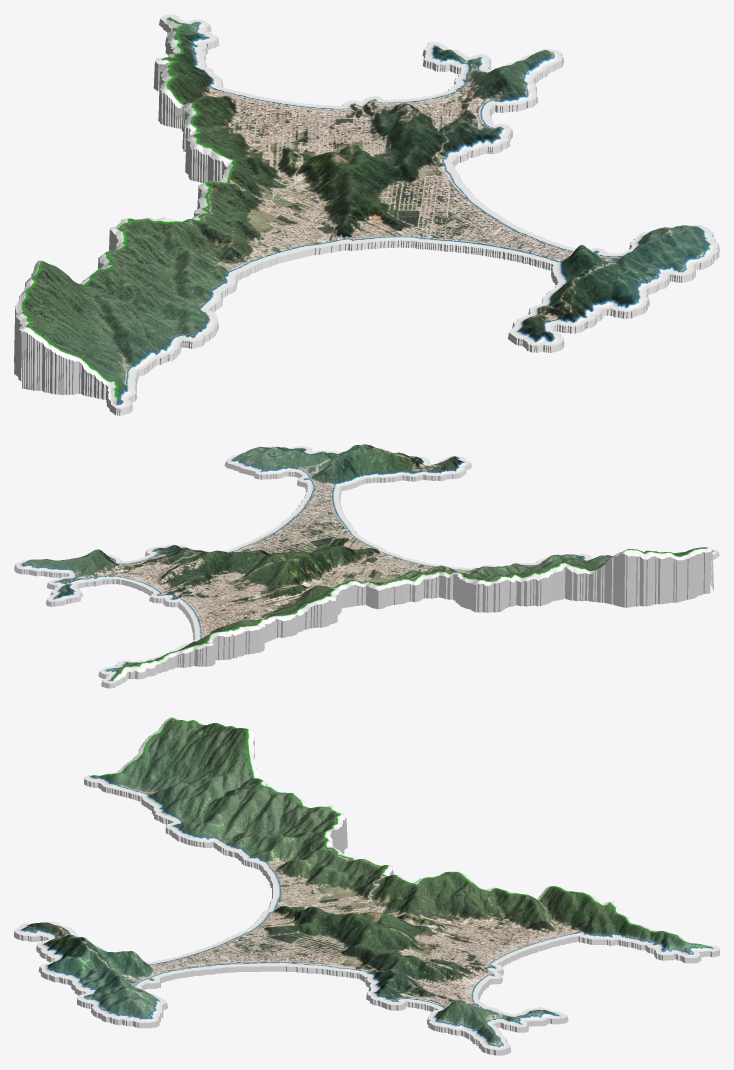
3 views of the same model, one above another, from view 1: azimuth 30°, elevation 25°; view 2: azimuth 150°, elevation 25°; view 3: azimuth 270°, elevation 25° (orthographic). The views are drawn at different scales.
Size of the model in its own units: 1 by 0.0963 by 1.02.
1 material, 1 textured.
